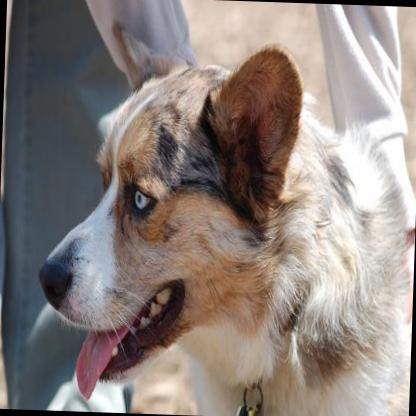Cardigan: (28, 1, 416, 416)
